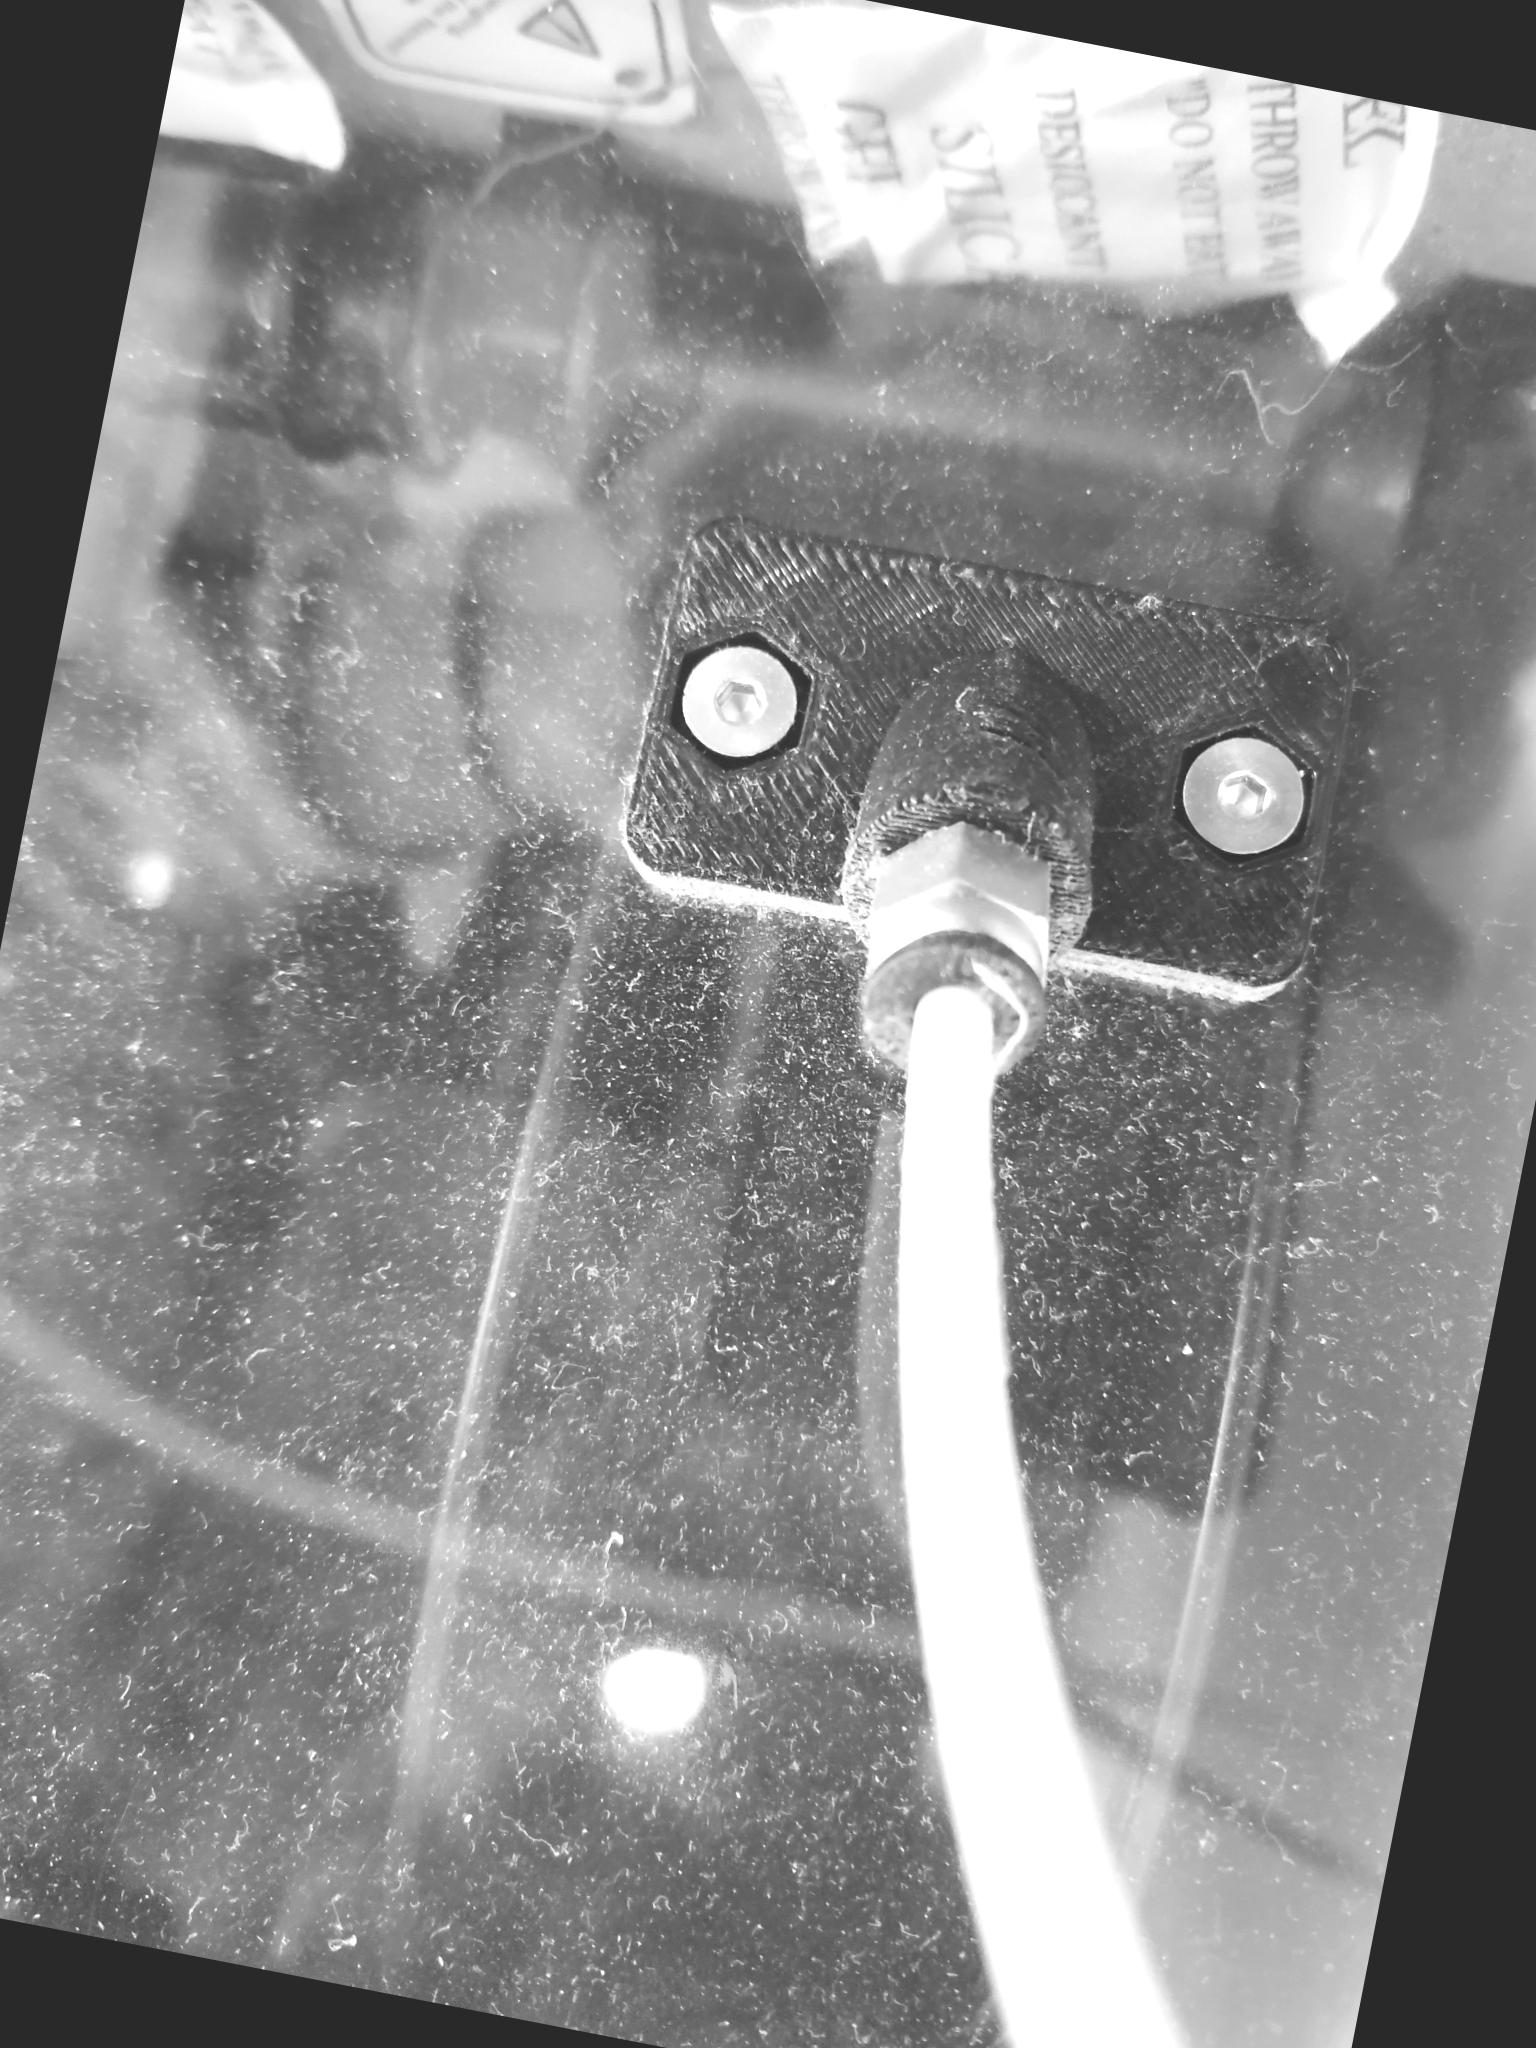screw: (666, 627, 823, 779), (1170, 719, 1323, 868)
